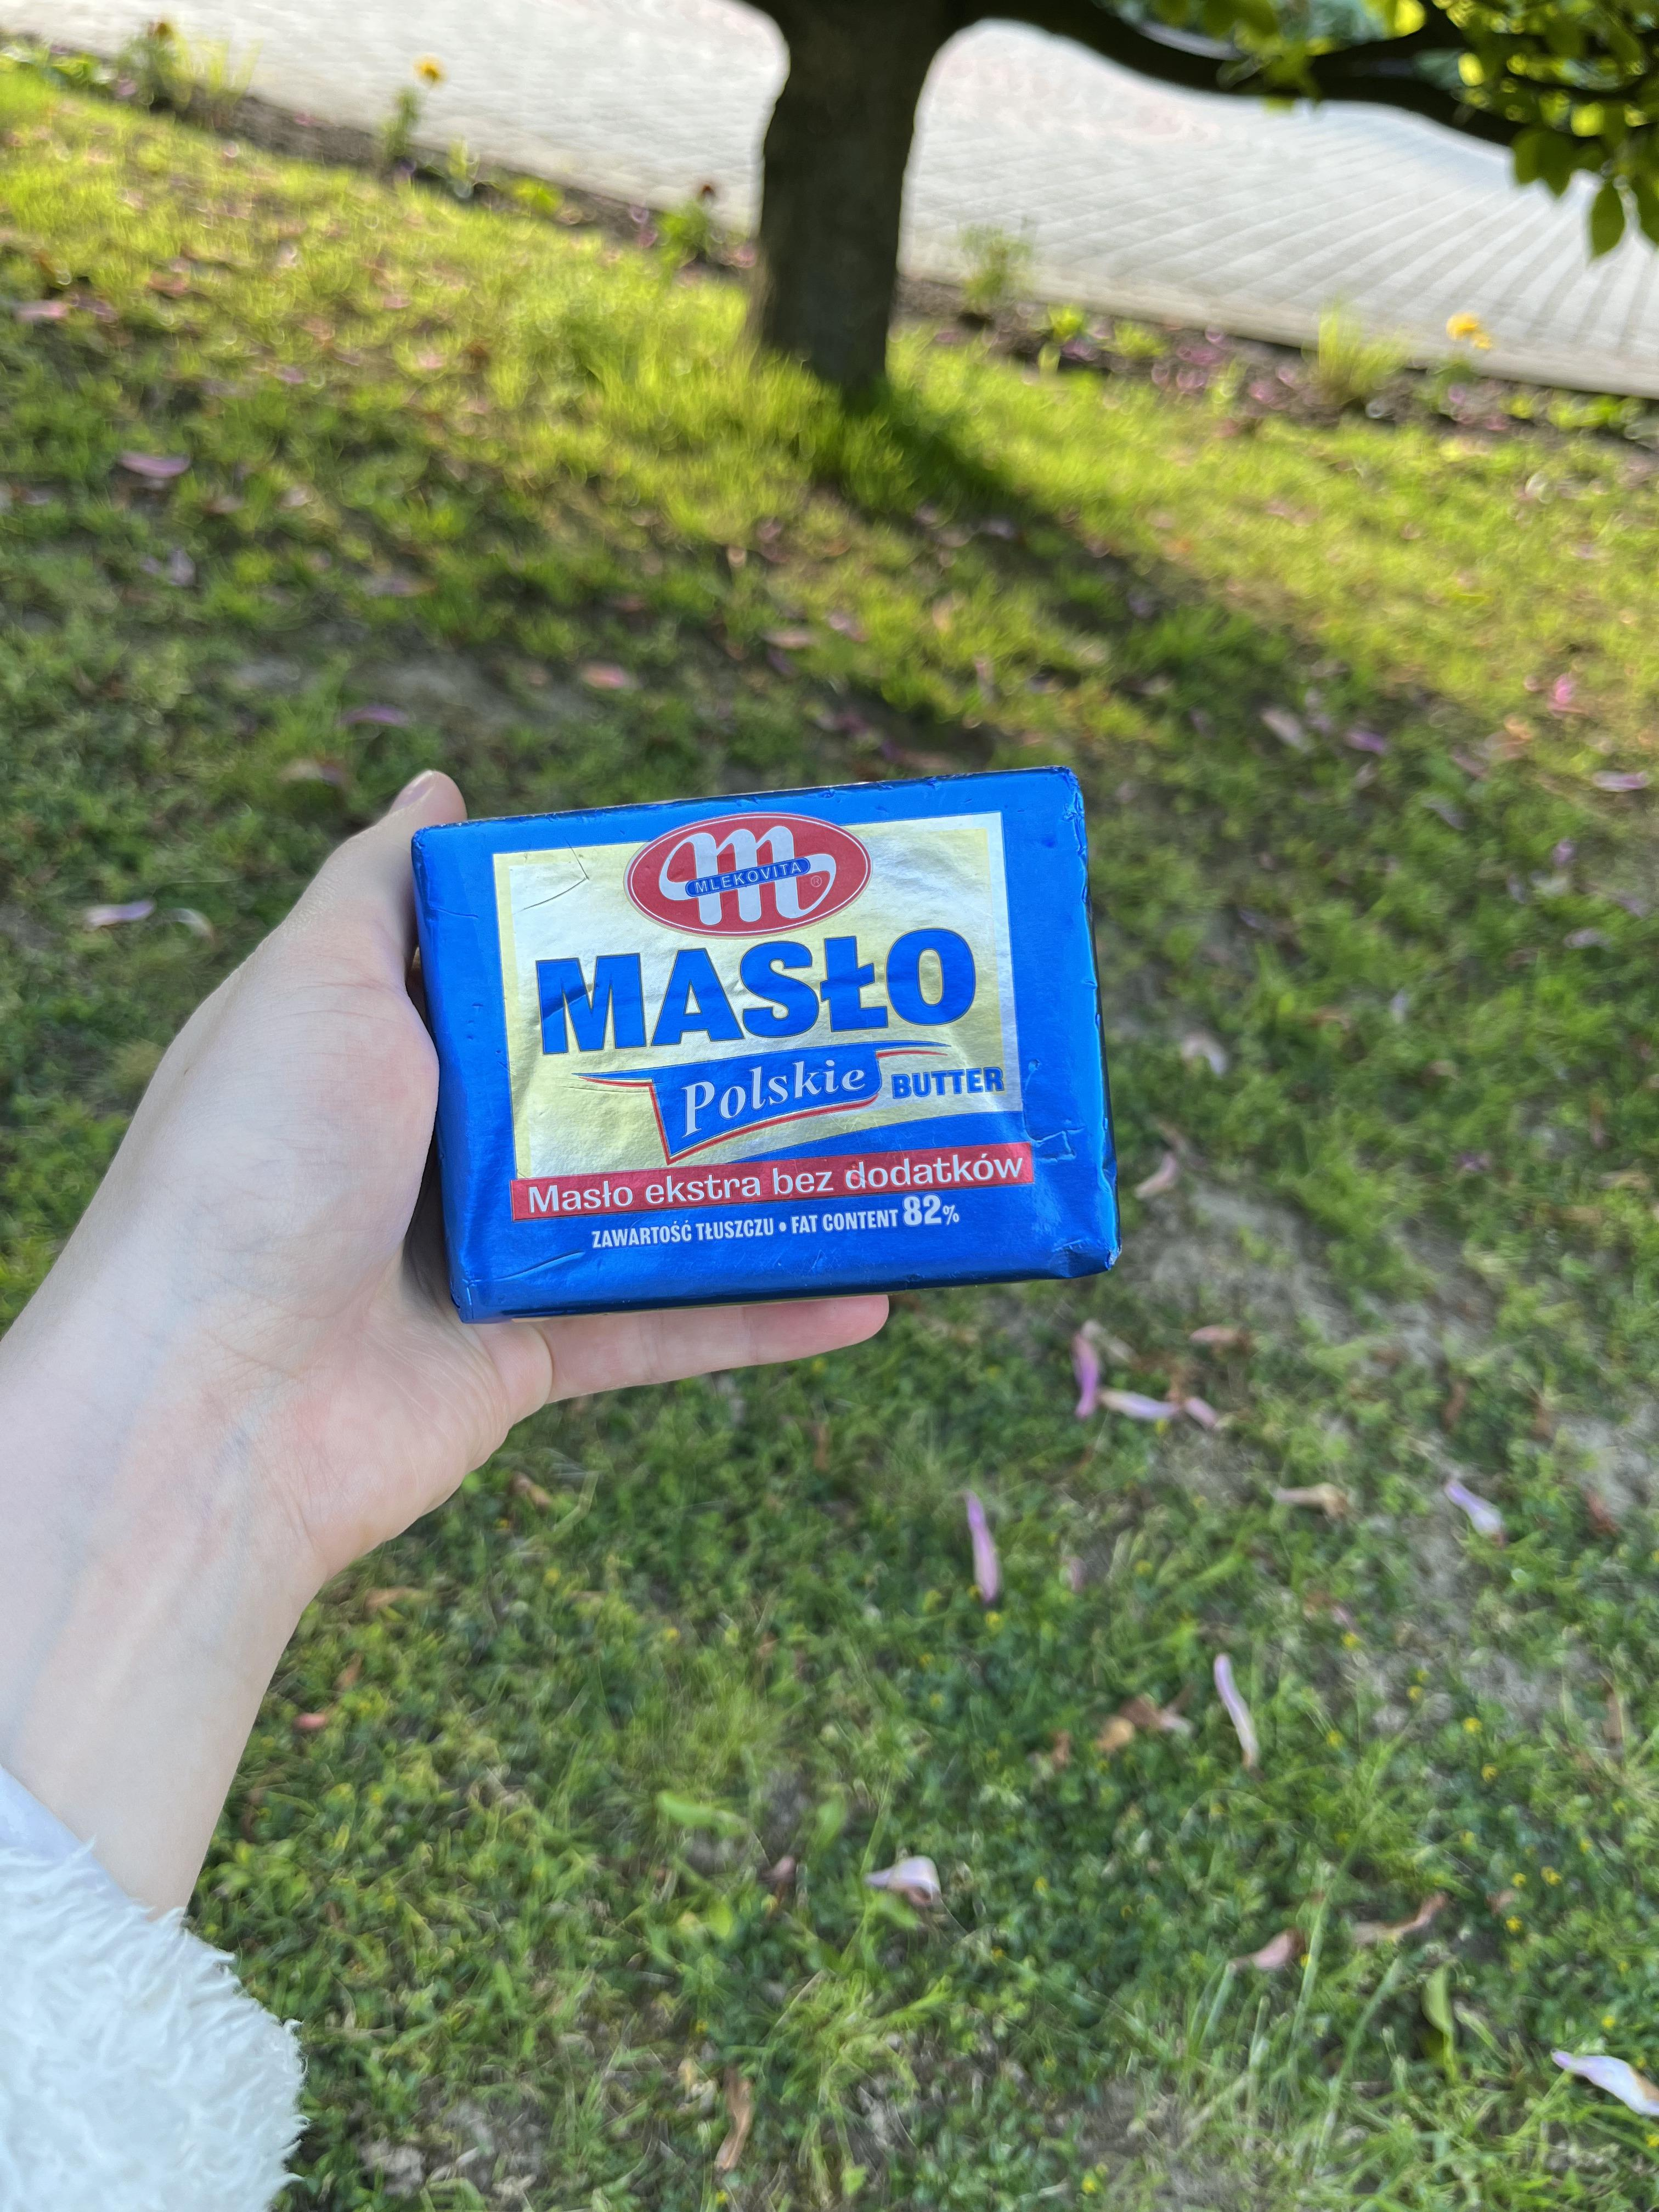Butter: (427, 803, 1117, 1273)
